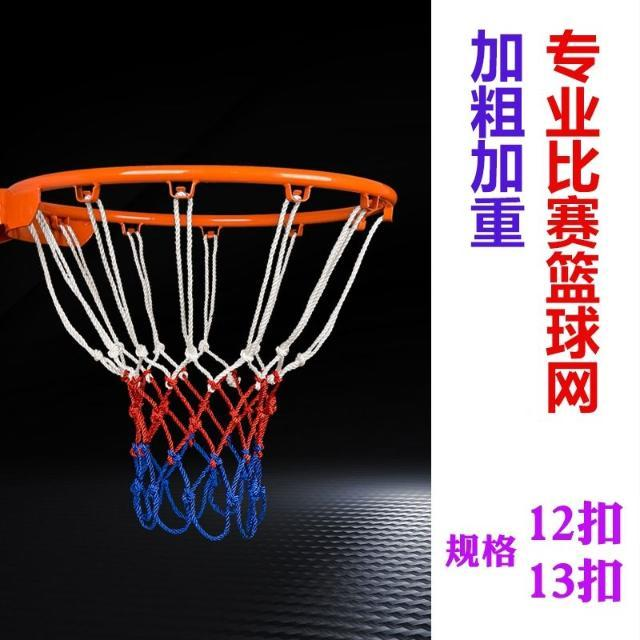rim: (6, 165, 398, 543)
